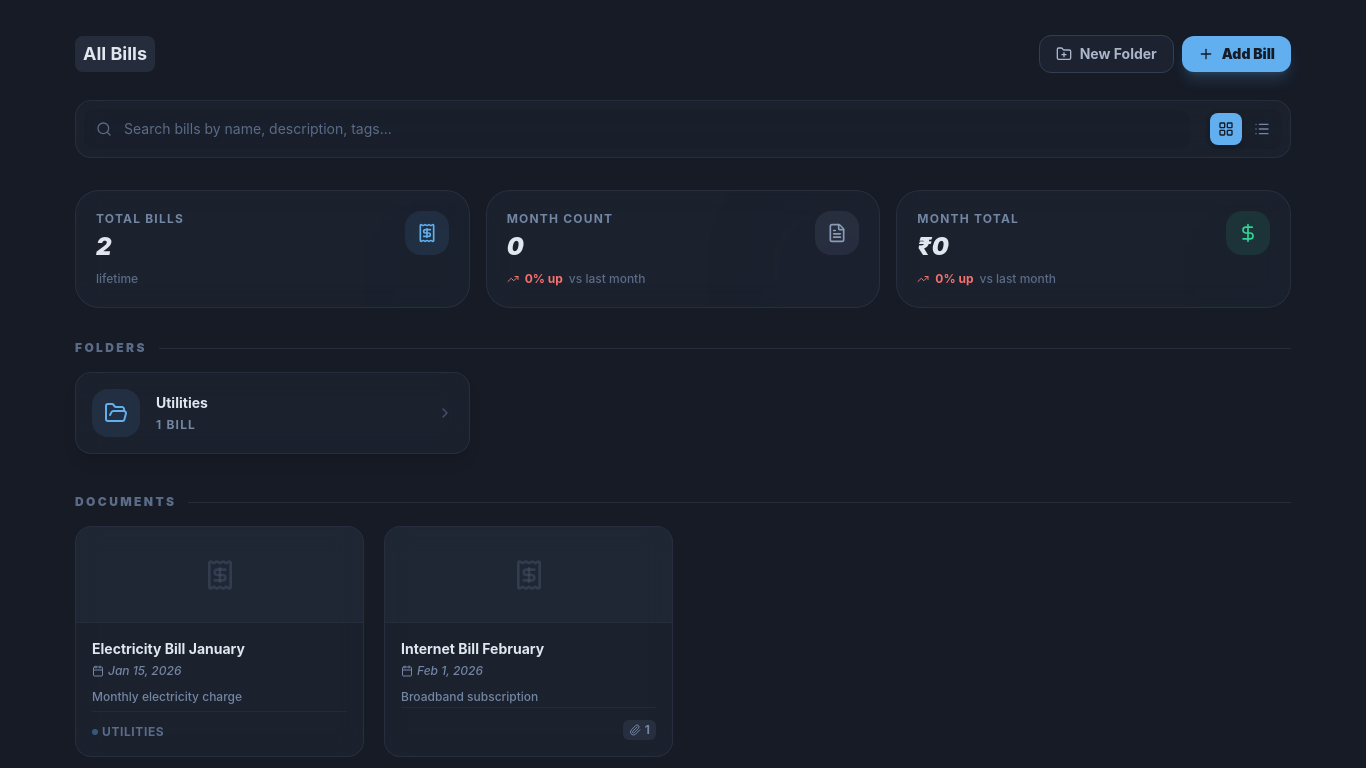
Test: BillsAdminView › shows inline folder creation when New Folder is clicked
Expected: the heading "Electricity Bill January" is shown, [92, 640, 245, 657]
Click the button "New Folder" at [1106, 54], box [1039, 35, 1174, 73]
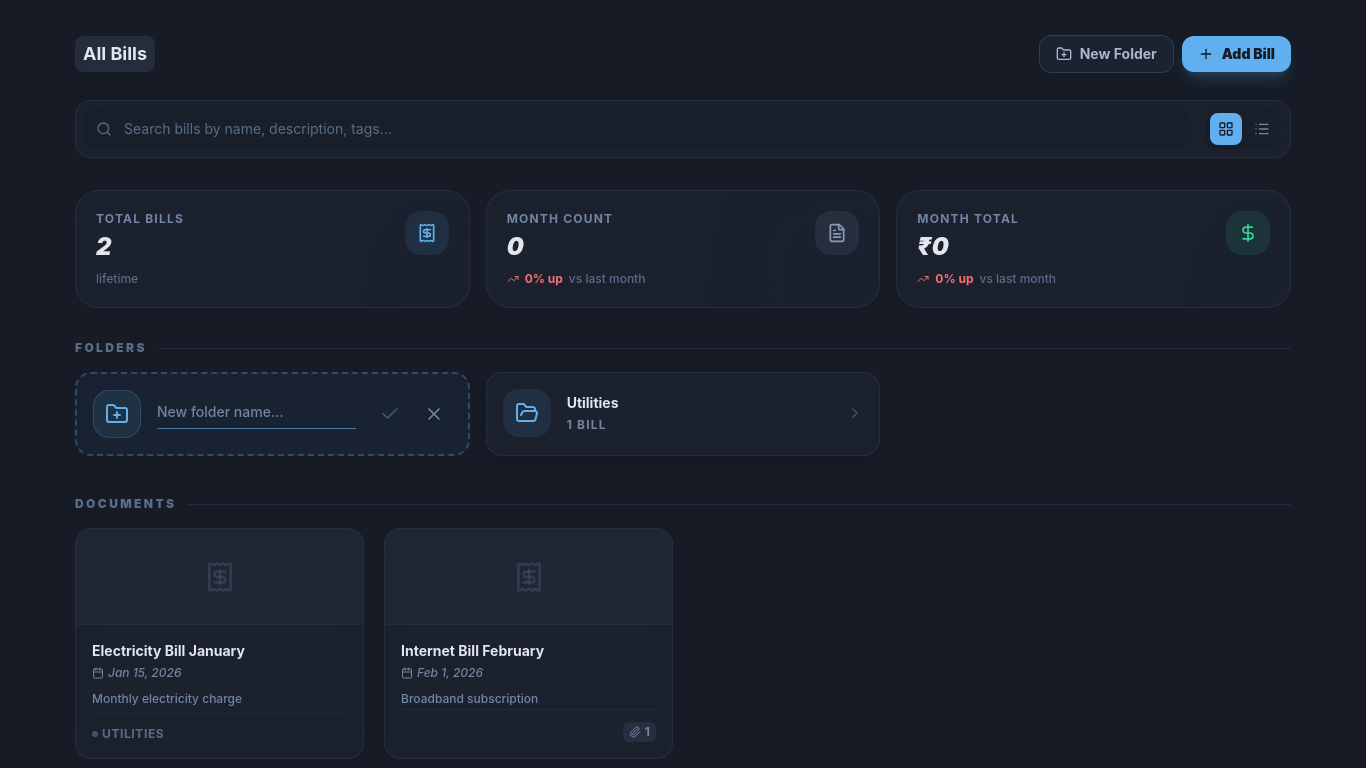
Expected: the field with placeholder "New folder name…" is shown, [157, 402, 356, 429]
